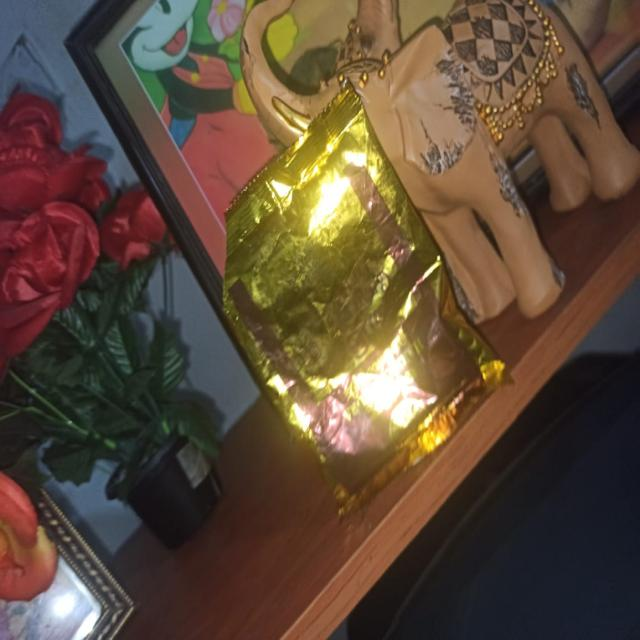Harischandra Coffee: (204, 186, 568, 511)
